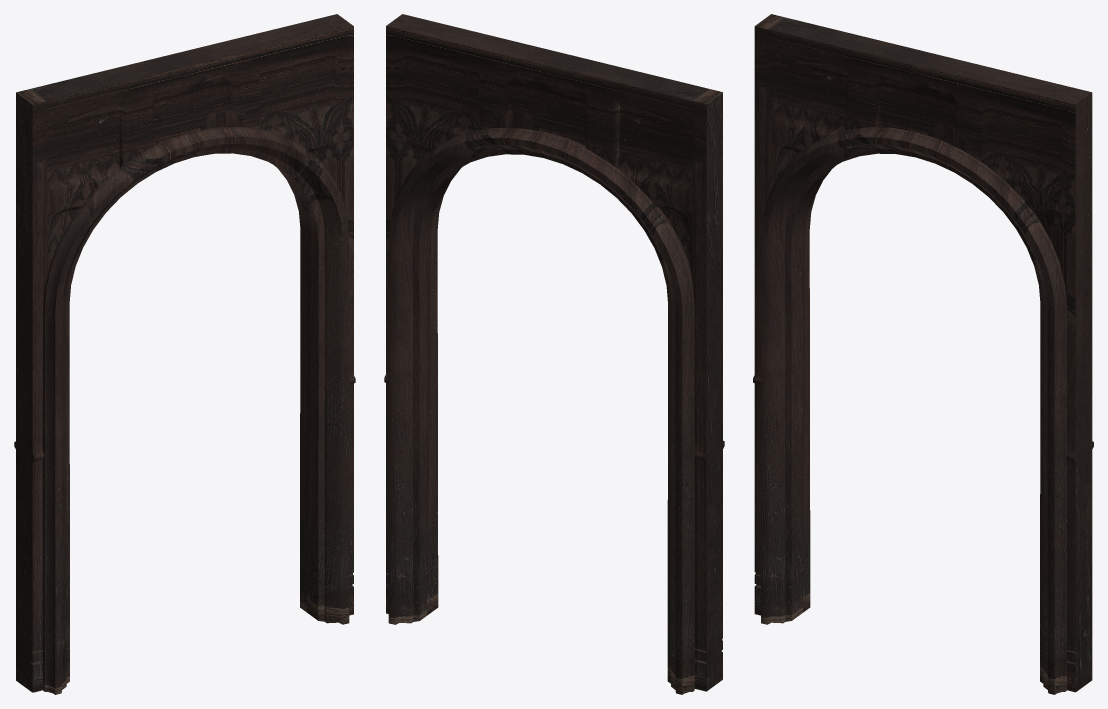
File: E_Round_DW.fbx
3 views of the same model, side by side, from view 1: azimuth 30°, elevation 25°; view 2: azimuth 150°, elevation 25°; view 3: azimuth 330°, elevation 25° (orthographic).
Visible parts, largest first — view 1: SM_Wall_Door_Rounded_LOD0; view 2: SM_Wall_Door_Rounded_LOD0; view 3: SM_Wall_Door_Rounded_LOD0.
Boxes of the visible parts, box(x1,y1,x2,y2) form: SM_Wall_Door_Rounded_LOD0: box(14, 14, 355, 694); SM_Wall_Door_Rounded_LOD0: box(384, 14, 724, 694); SM_Wall_Door_Rounded_LOD0: box(753, 14, 1093, 694).
Size of the model in its own units: 200 by 350 by 37.32.
